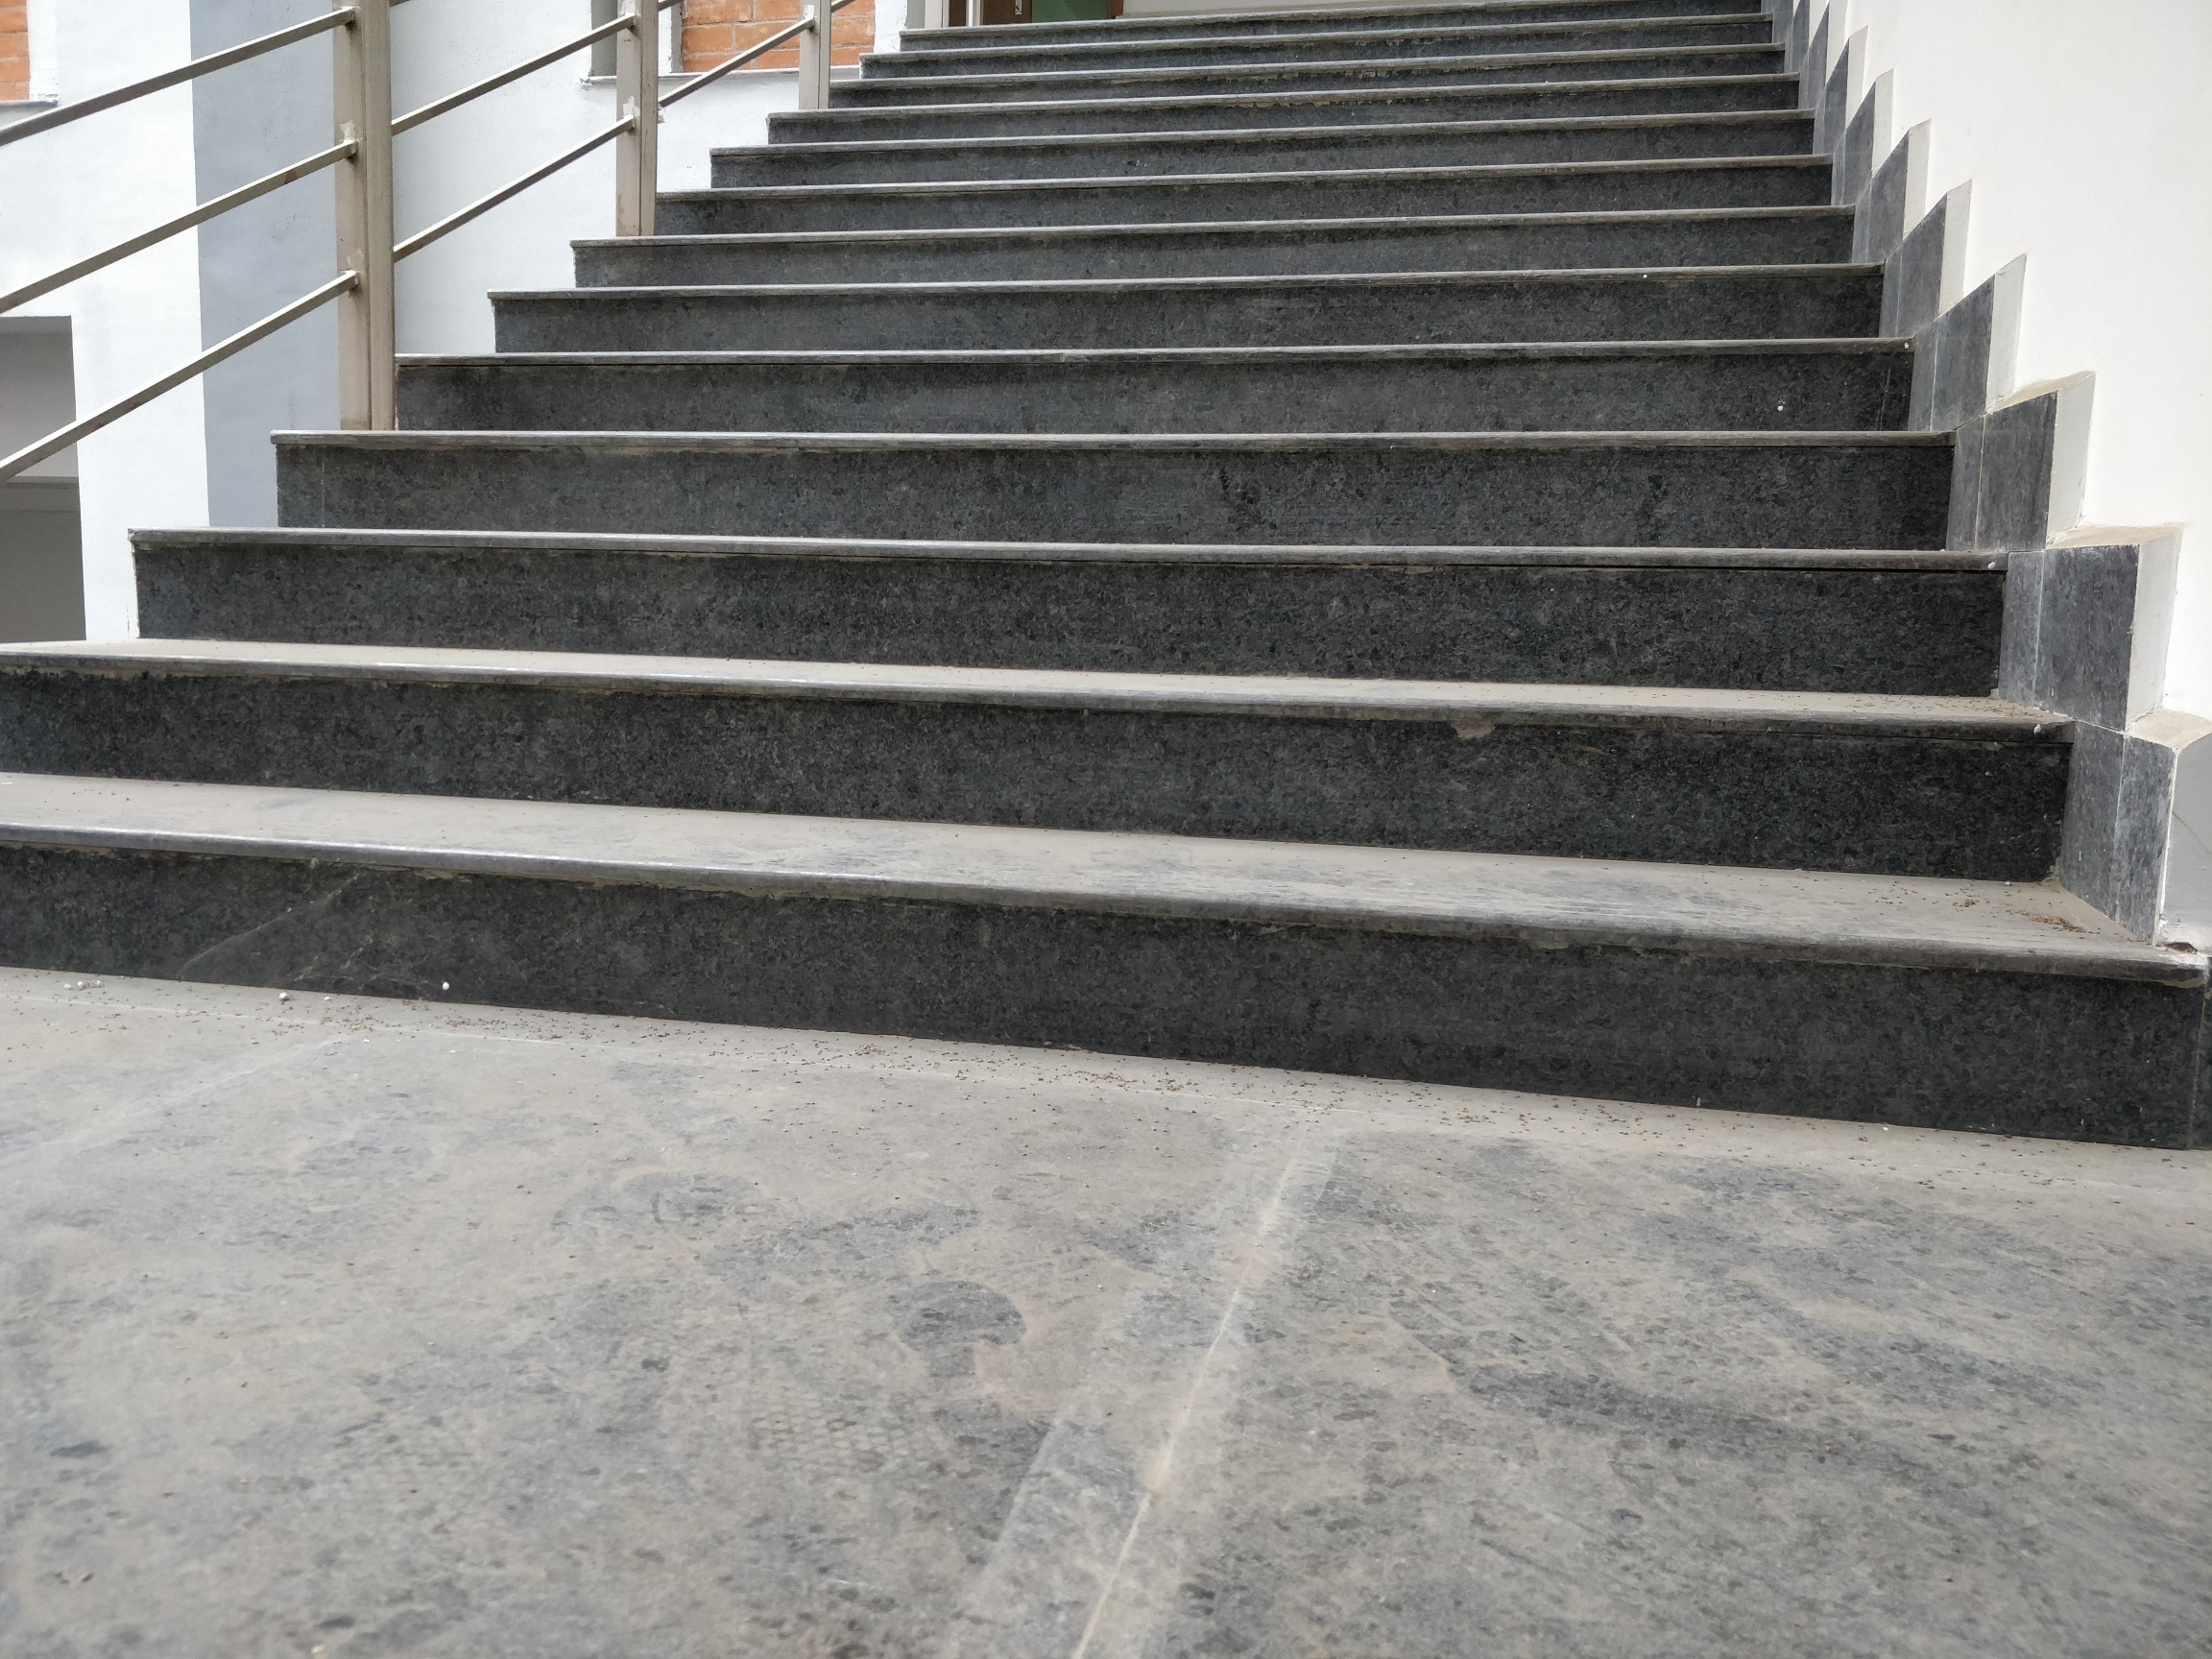stairs_up: (2, 5, 2196, 1147)
